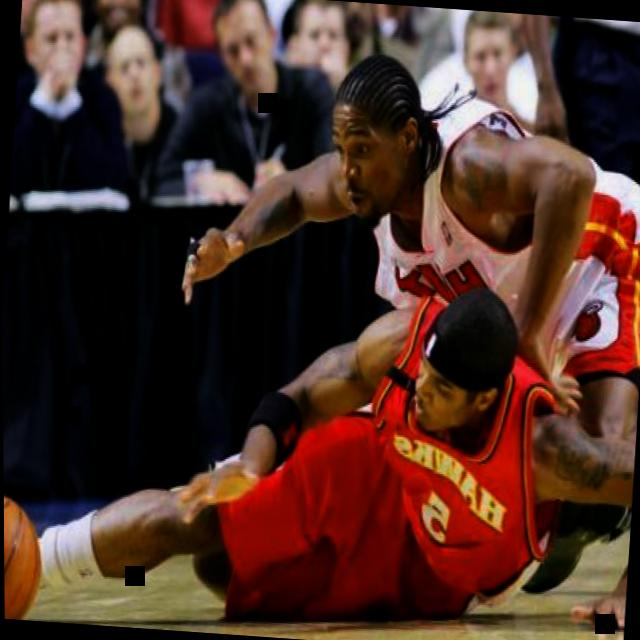Fall-Detected: (1, 231, 640, 640)
